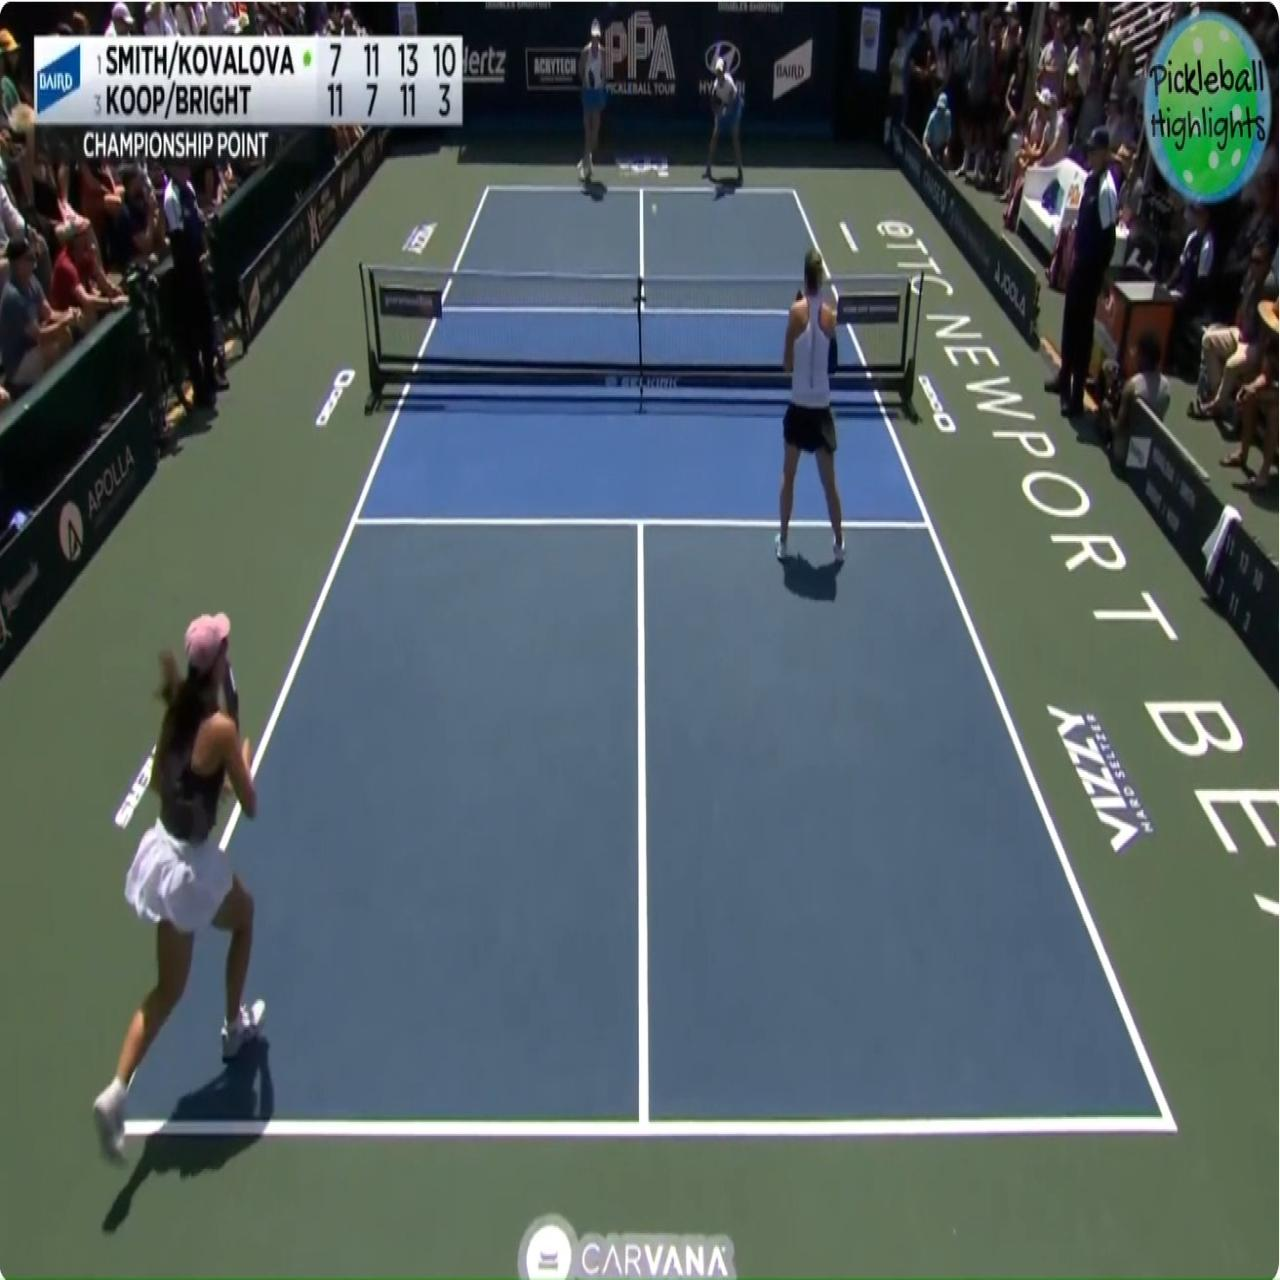pickleball: (652, 202, 658, 215)
